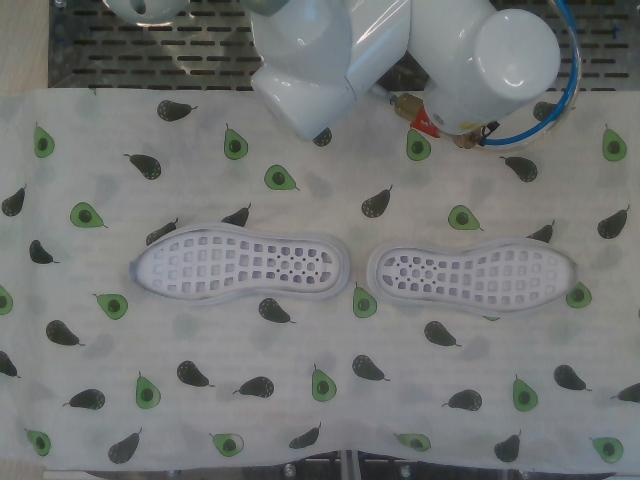shoes: (129, 228, 342, 301), (376, 243, 578, 312)
